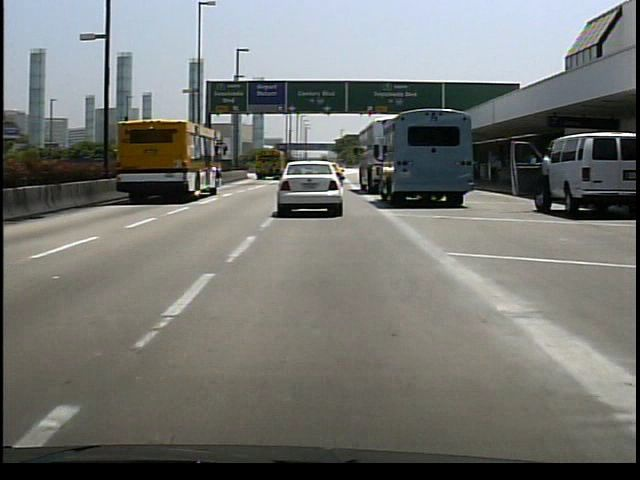person: (537, 139, 555, 219)
